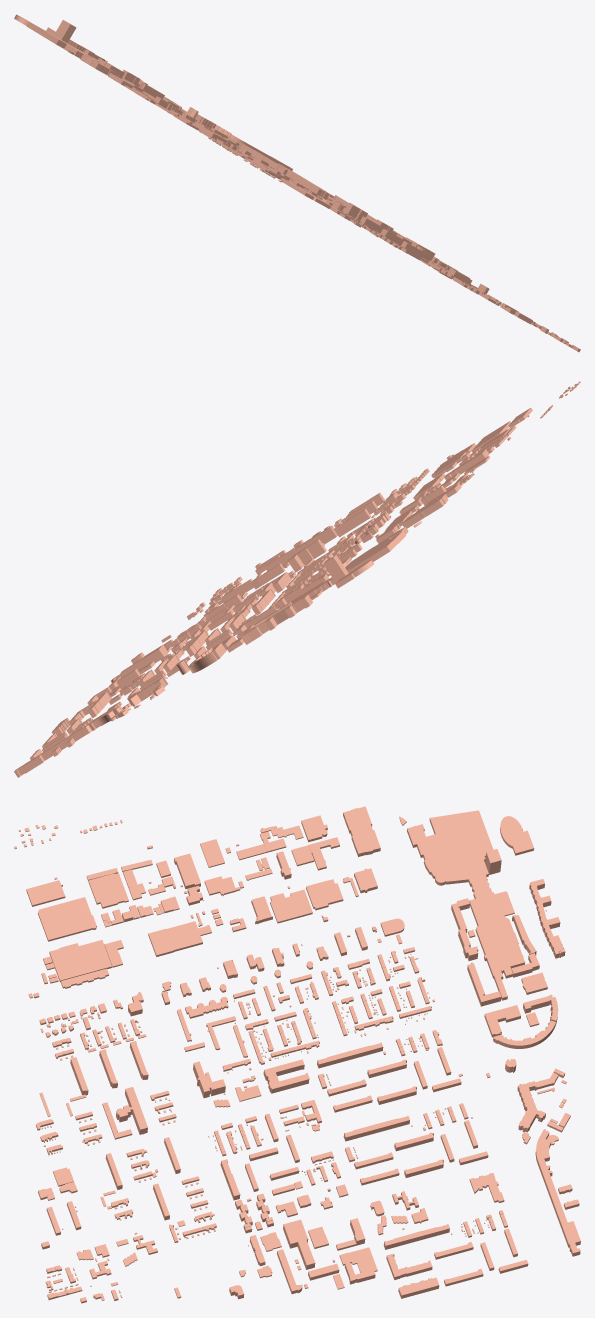
3 views of the same model, one above another, from view 1: azimuth 30°, elevation 25°; view 2: azimuth 150°, elevation 25°; view 3: azimuth 270°, elevation 25° (orthographic). The views are drawn at different scales.
Size of the model in its own units: 1017 by 769 by 1266.
